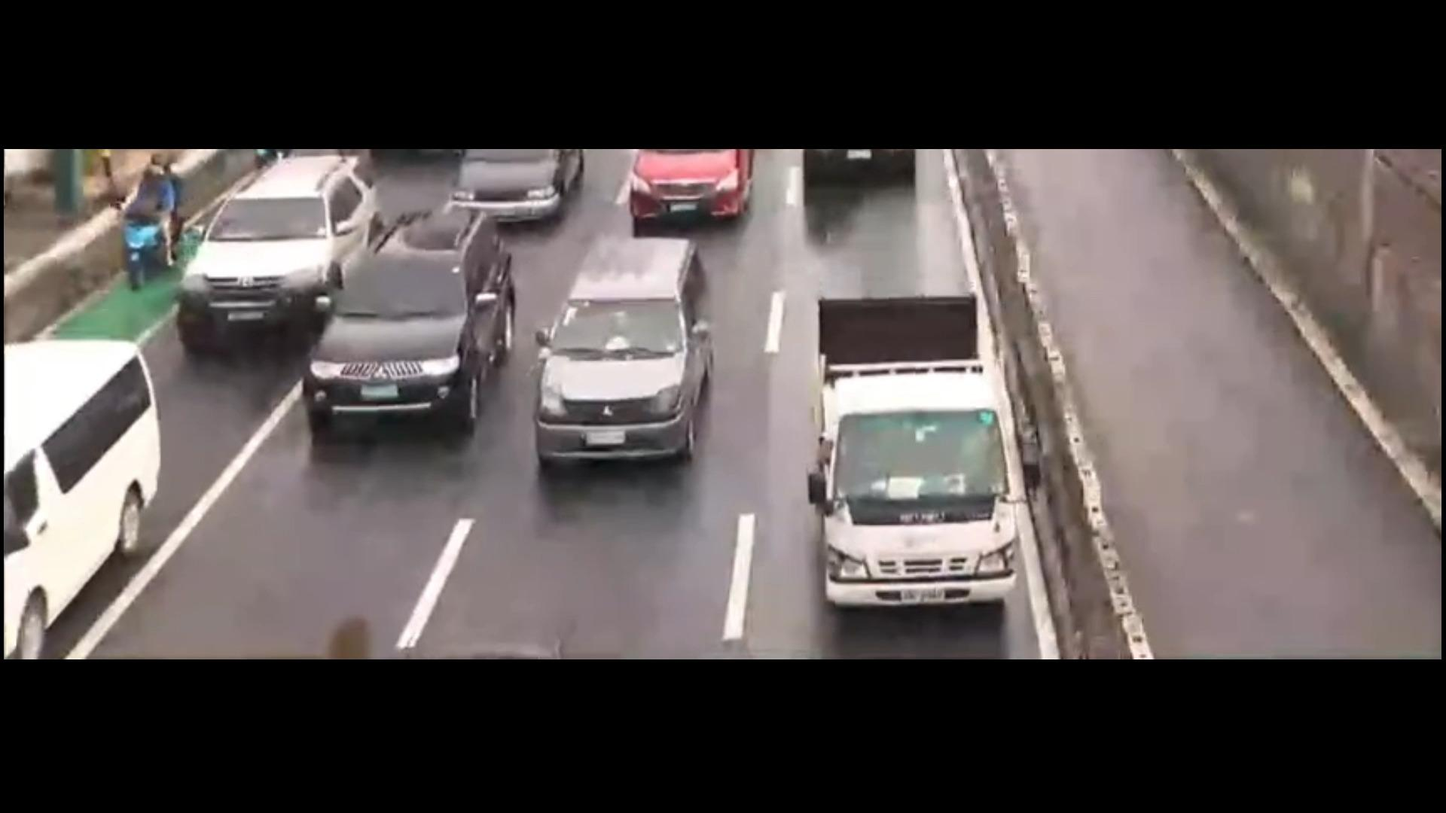Motorcycle: (112, 151, 200, 309)
SUV: (288, 202, 514, 467), (181, 147, 388, 347)
Truck: (799, 269, 1037, 631)
Van: (521, 226, 729, 491), (0, 330, 159, 663)
